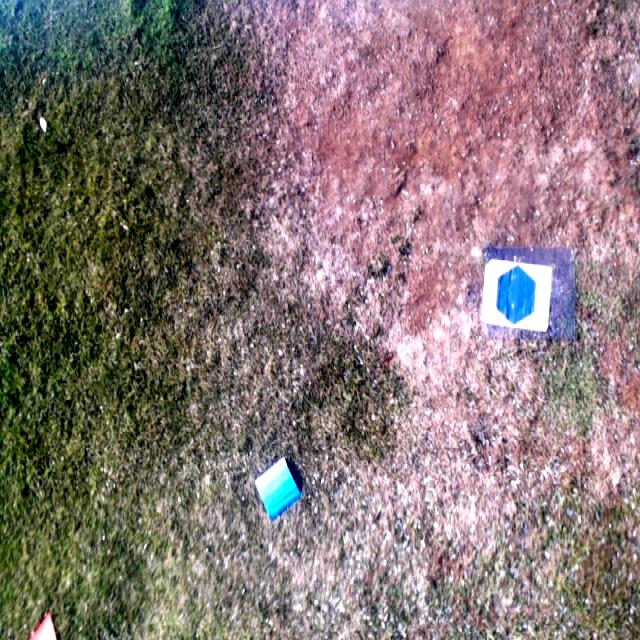blue_hexagon: (496, 266, 536, 323)
blue_square: (253, 455, 302, 521)
